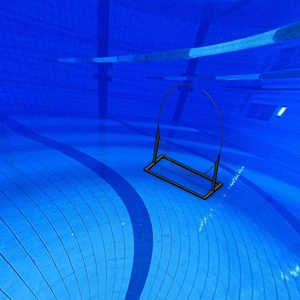circle: (143, 82, 225, 203)
